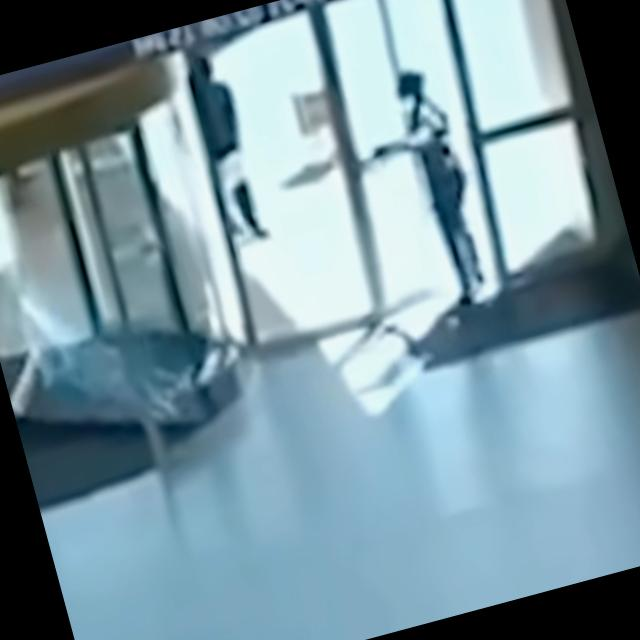person: (353, 61, 498, 318), (184, 48, 272, 246)
